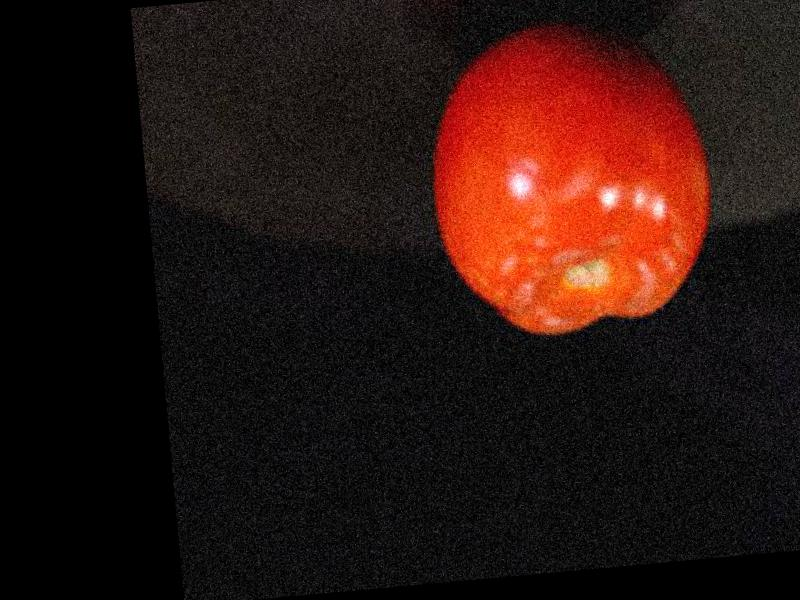Tomato: (416, 17, 720, 345)
